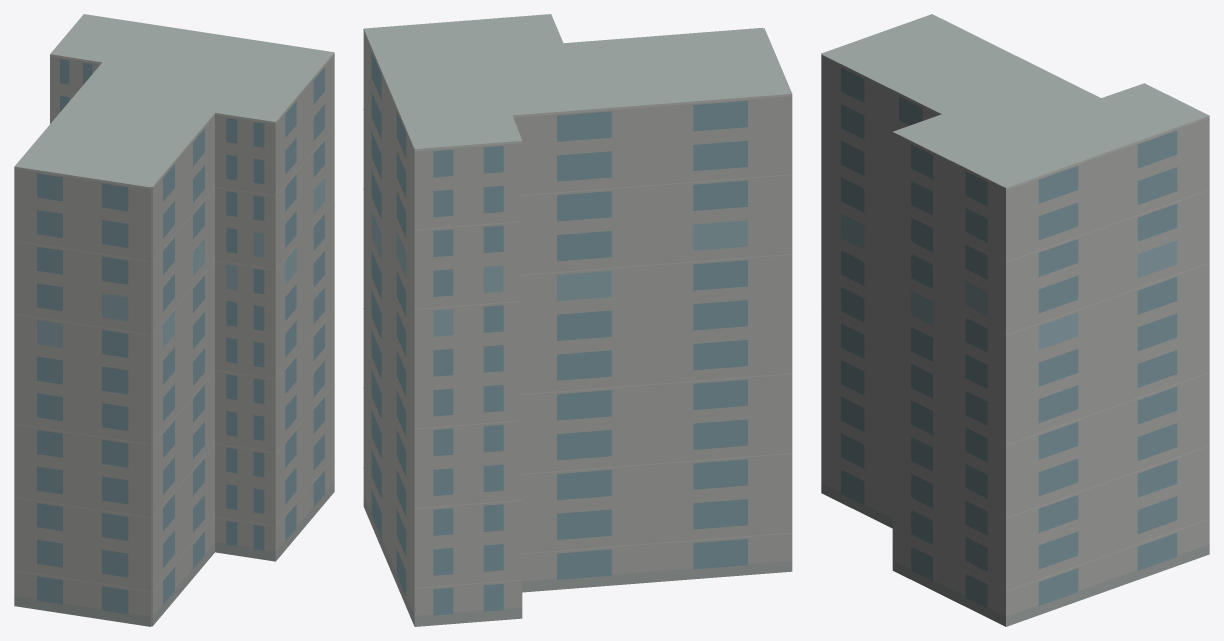
File: survey-upis-32692842.glb
3 views of the same model, side by side, from view 1: azimuth 30°, elevation 25°; view 2: azimuth 150°, elevation 25°; view 3: azimuth 270°, elevation 25° (orthographic). The views are drawn at different scales.
Parts seen in each view (by area): view 1: survey-upis-32692842.tmp; view 2: survey-upis-32692842.tmp; view 3: survey-upis-32692842.tmp.
Part boxes in pixels (bbox=[...]): survey-upis-32692842.tmp: bbox=[14, 14, 334, 626]; survey-upis-32692842.tmp: bbox=[363, 14, 792, 626]; survey-upis-32692842.tmp: bbox=[821, 14, 1209, 626].
Size of the model in its own units: 42.48 by 49.9 by 40.04.
